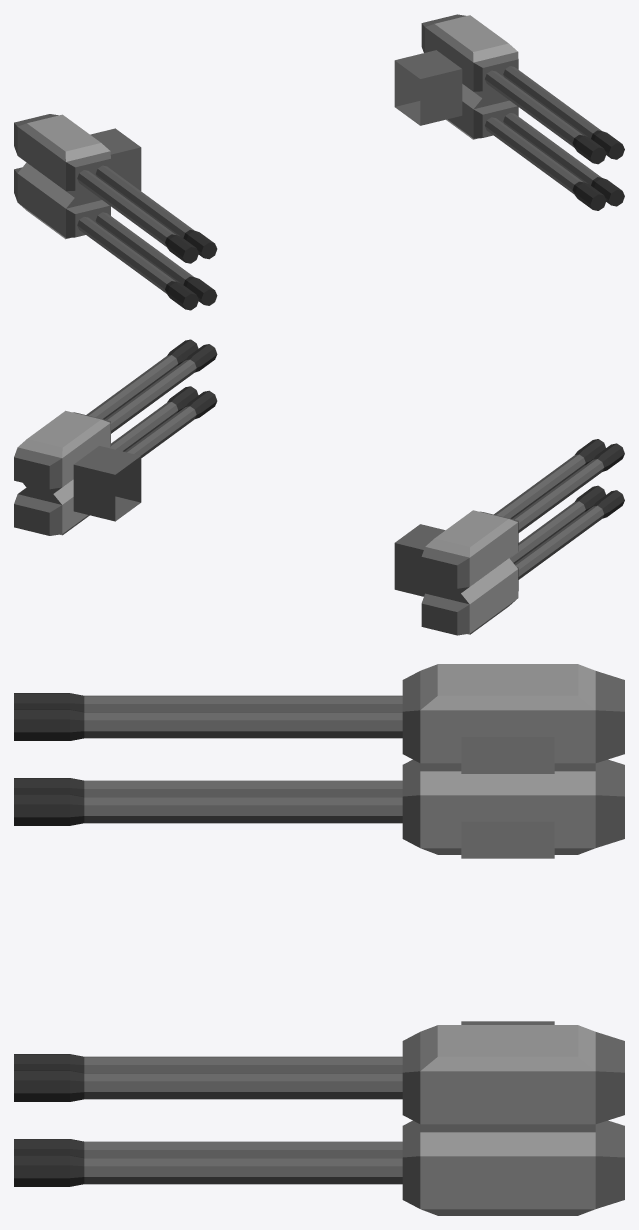
The model's file is mech_arm_autocannon.glb.
The picture shows the model from 3 angles, top to bottom: view 1: azimuth 30°, elevation 25°; view 2: azimuth 150°, elevation 25°; view 3: azimuth 270°, elevation 25°; orthographic projection. The views are drawn at different scales.
Visible parts, largest first — view 1: Autocannon; view 2: Autocannon; view 3: Autocannon.
Boxes of the visible parts, box(x1,y1,x2,y2) form: Autocannon: box(14, 14, 624, 310); Autocannon: box(14, 339, 624, 635); Autocannon: box(14, 664, 624, 1215).
Bounding box in the file's own units: 1.62 × 0.3 × 1.04.
Materials: 1 (1 with a texture image).
